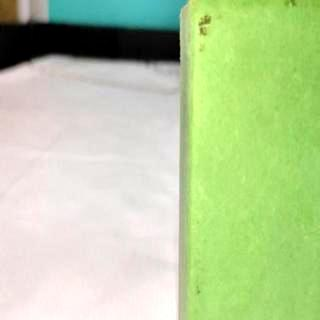greenbox: (179, 1, 320, 320), (180, 5, 181, 6)
